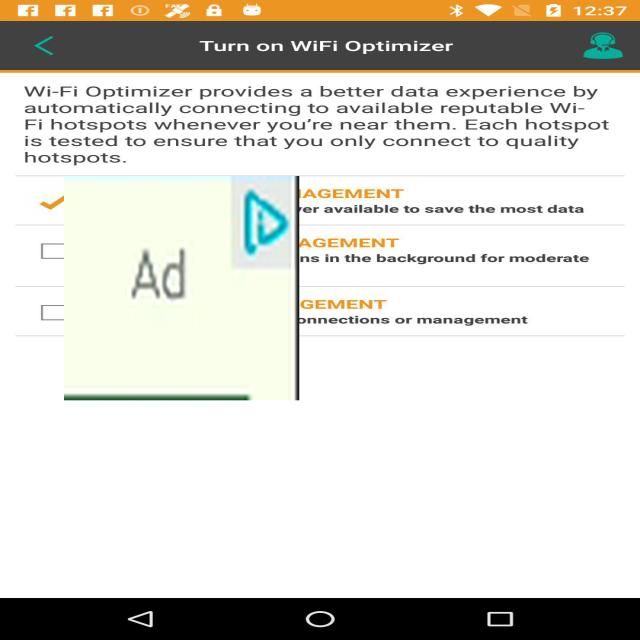sneaking: (64, 176, 299, 400)
